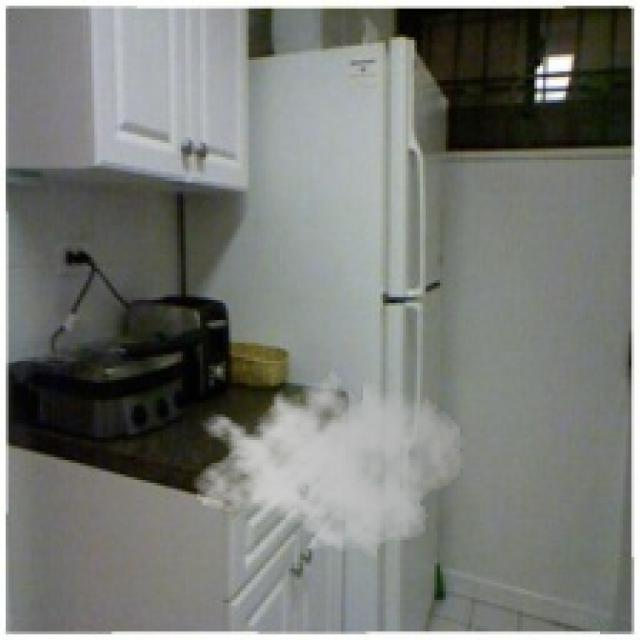smoke: (191, 360, 466, 563)
